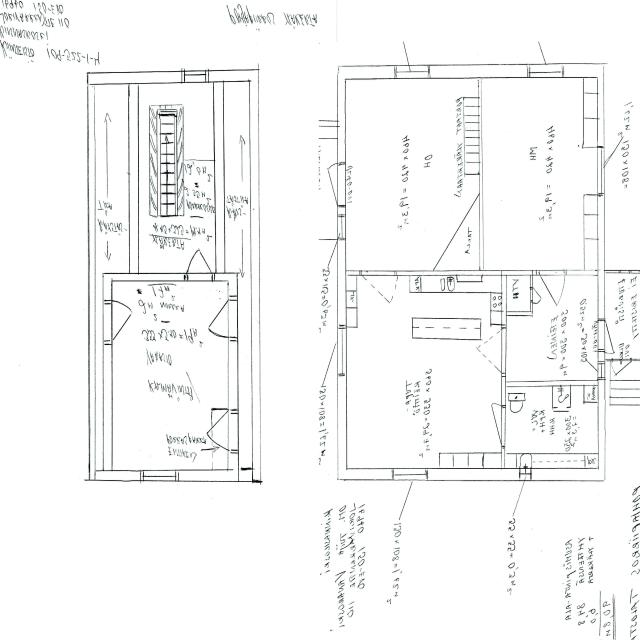door: (308, 163, 346, 205), (200, 408, 238, 449), (202, 297, 238, 336), (103, 303, 139, 342), (474, 406, 506, 444), (186, 236, 211, 282), (540, 270, 566, 313), (598, 320, 628, 352), (612, 358, 632, 390), (530, 286, 543, 302)
